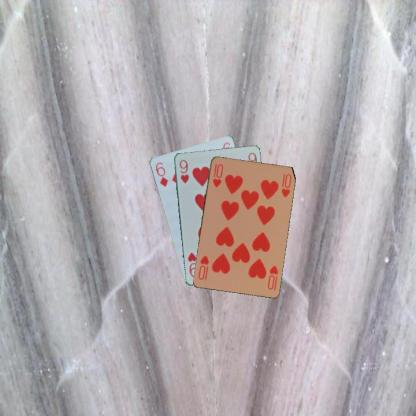10h: (265, 262, 279, 291), (210, 161, 224, 188)
6d: (152, 159, 170, 188)
9h: (176, 157, 190, 185)
